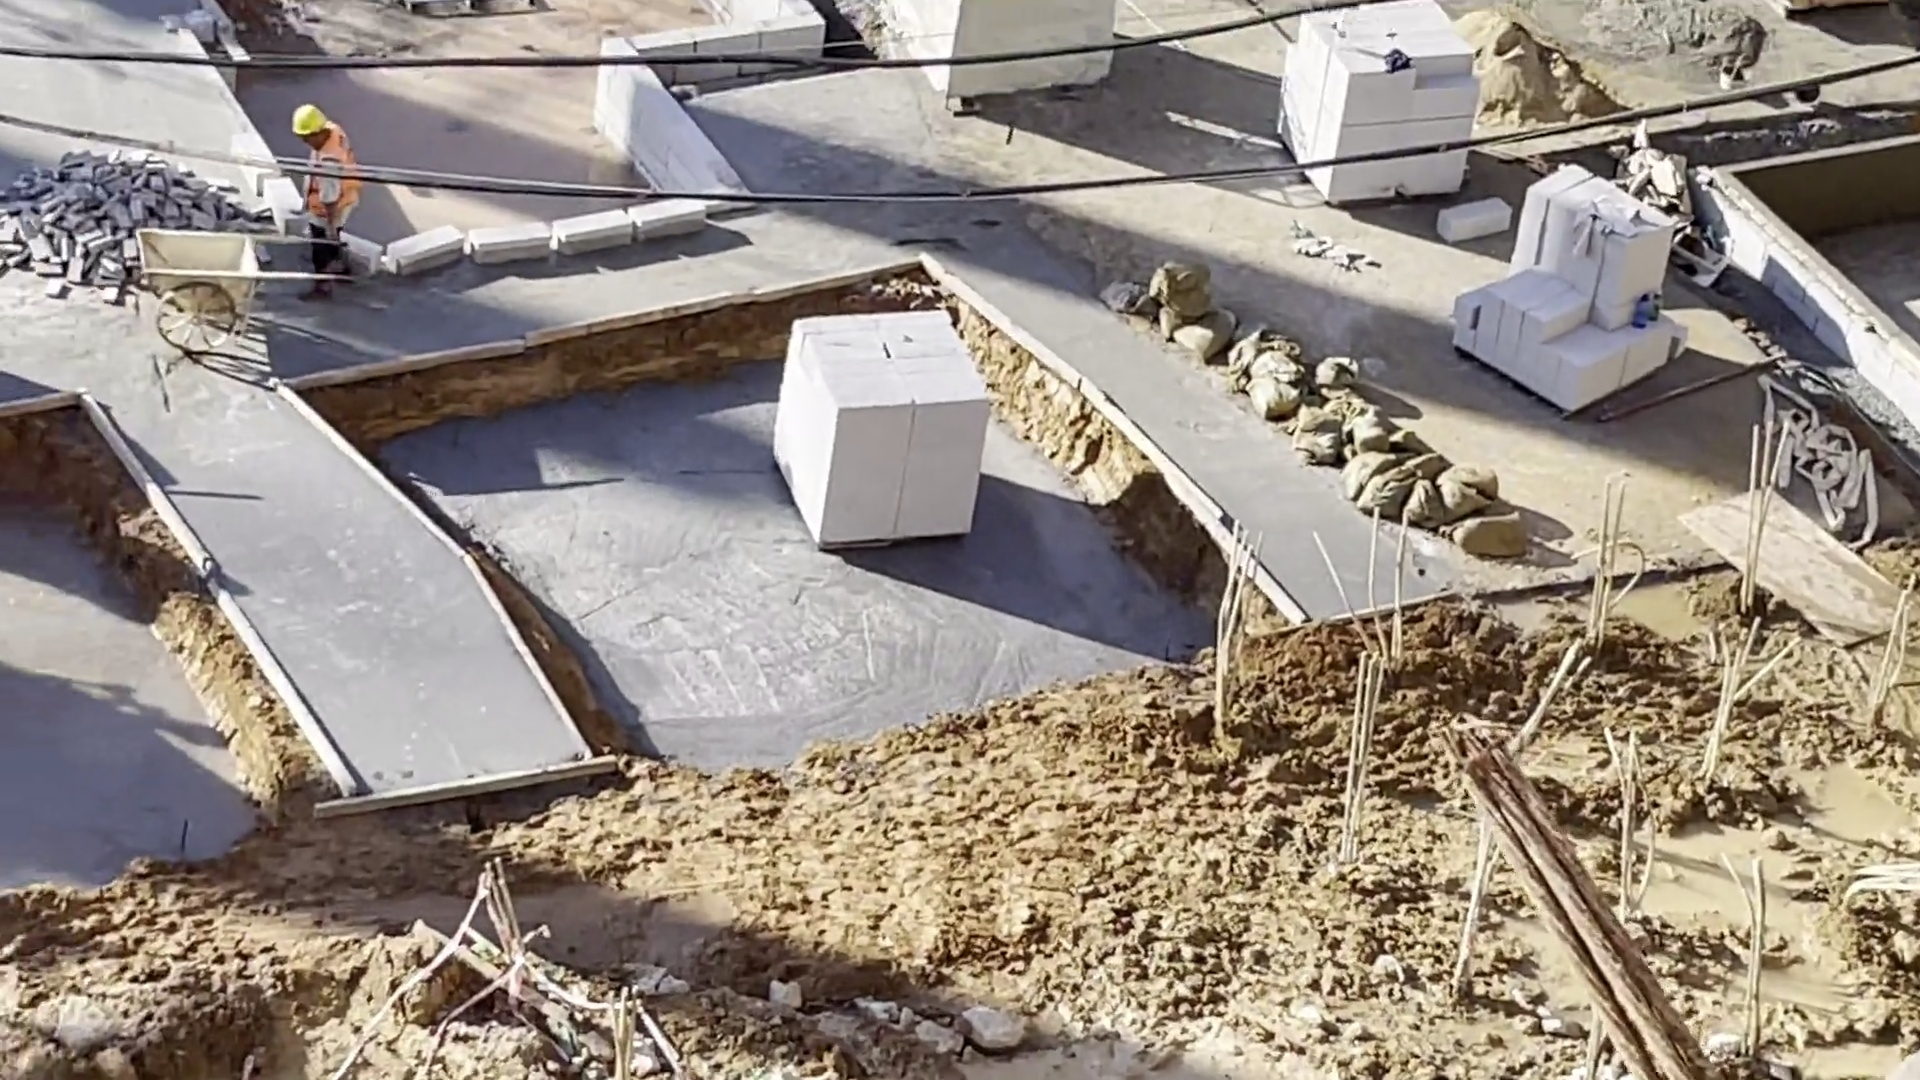brick: (1441, 158, 1698, 423), (764, 305, 998, 550), (1273, 27, 1482, 158)
handcart: (126, 220, 314, 357)
helmet: (290, 103, 330, 138)
person: (288, 101, 366, 302)
vest: (308, 124, 358, 221)
